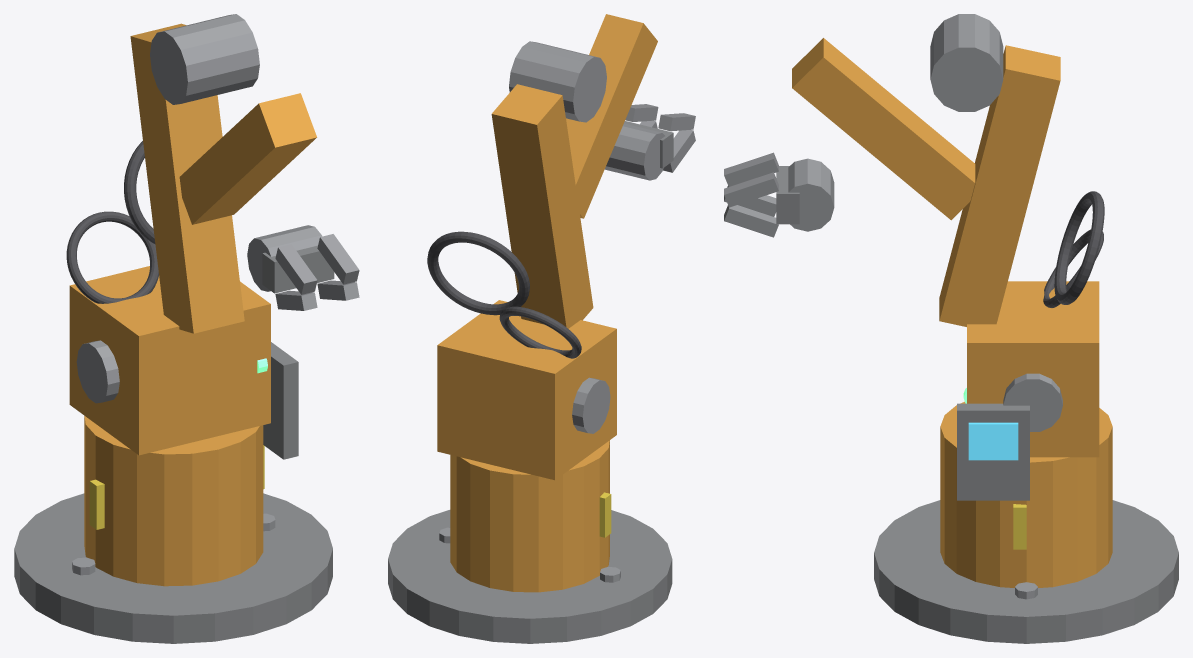
File: machine_robotarm.glb
3 views of the same model, side by side, from view 1: azimuth 30°, elevation 25°; view 2: azimuth 150°, elevation 25°; view 3: azimuth 270°, elevation 25° (orthographic). The views are drawn at different scales.
Visible parts, largest first — view 1: RA_base_plate, RA_shoulder, RA_pedestal, RA_upper_arm, RA_forearm, RA_elbow, RA_panel, RA_cable_b, RA_shoulder_axle, RA_wrist, RA_grip_palm, RA_cable_a (+5 smaller); view 2: RA_shoulder, RA_base_plate, RA_pedestal, RA_upper_arm, RA_forearm, RA_elbow, RA_cable_a, RA_wrist, RA_shoulder_axle, RA_cable_b, RA_finger_c, RA_finger_a (+3 smaller); view 3: RA_base_plate, RA_pedestal, RA_upper_arm, RA_shoulder, RA_forearm, RA_elbow, RA_panel, RA_cable_a, RA_wrist, RA_shoulder_axle, RA_panel_screen, RA_finger_b (+5 smaller).
Boxes of the visible parts, left/top/right/bottom form: RA_base_plate: left=14, top=493, right=332, bottom=643; RA_shoulder: left=69, top=266, right=270, bottom=455; RA_pedestal: left=84, top=416, right=263, bottom=586; RA_upper_arm: left=130, top=23, right=244, bottom=333; RA_forearm: left=179, top=93, right=316, bottom=224; RA_elbow: left=150, top=14, right=259, bottom=104; RA_panel: left=263, top=342, right=298, bottom=459; RA_cable_b: left=66, top=211, right=158, bottom=303; RA_shoulder_axle: left=76, top=340, right=119, bottom=403; RA_wrist: left=247, top=225, right=322, bottom=291; RA_grip_palm: left=262, top=245, right=334, bottom=293; RA_cable_a: left=124, top=141, right=155, bottom=243; RA_shoulder: left=437, top=300, right=616, bottom=480; RA_base_plate: left=388, top=510, right=672, bottom=643; RA_pedestal: left=450, top=440, right=609, bottom=592; RA_upper_arm: left=491, top=84, right=593, bottom=328; RA_forearm: left=566, top=14, right=657, bottom=218; RA_elbow: left=509, top=41, right=606, bottom=122; RA_cable_a: left=427, top=231, right=529, bottom=315; RA_wrist: left=604, top=123, right=664, bottom=180; RA_shoulder_axle: left=572, top=377, right=610, bottom=433; RA_cable_b: left=499, top=306, right=581, bottom=358; RA_finger_c: left=663, top=130, right=695, bottom=172; RA_finger_a: left=658, top=113, right=695, bottom=131; RA_base_plate: left=874, top=500, right=1178, bottom=643; RA_pedestal: left=940, top=401, right=1112, bottom=587; RA_upper_arm: left=939, top=45, right=1060, bottom=326; RA_shoulder: left=967, top=281, right=1099, bottom=457; RA_forearm: left=792, top=38, right=975, bottom=220; RA_elbow: left=930, top=14, right=1003, bottom=111; RA_panel: left=957, top=403, right=1029, bottom=500; RA_cable_a: left=1054, top=191, right=1104, bottom=304; RA_wrist: left=788, top=158, right=834, bottom=231; RA_shoulder_axle: left=1003, top=373, right=1062, bottom=431; RA_panel_screen: left=968, top=422, right=1018, bottom=460; RA_finger_b: left=724, top=172, right=778, bottom=207.
Size of the model in its own units: 0.92 by 1.83 by 1.37.
